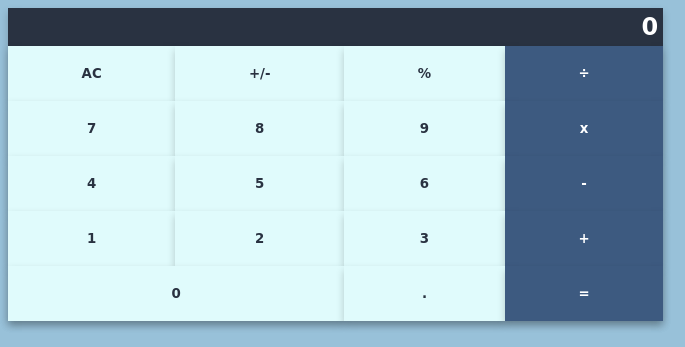
Test case: SolutionBox should have 10 ( 5 + 5 = 10)
Click the button "5" at (260, 184), box [175, 156, 344, 211]
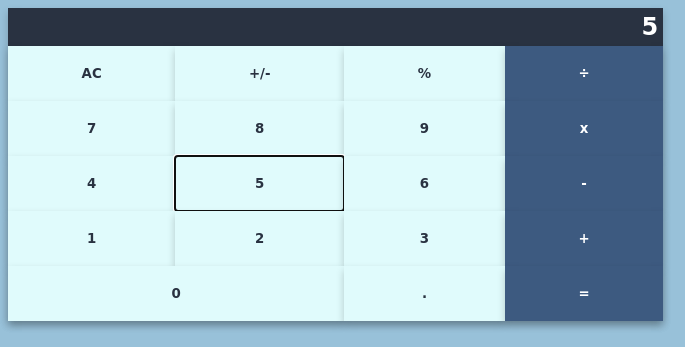
Click the button "+" at (584, 238), box [505, 211, 663, 266]
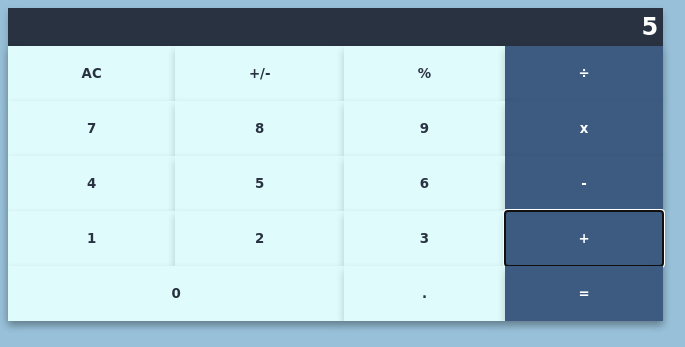
Click the button "5" at (260, 184), box [175, 156, 344, 211]
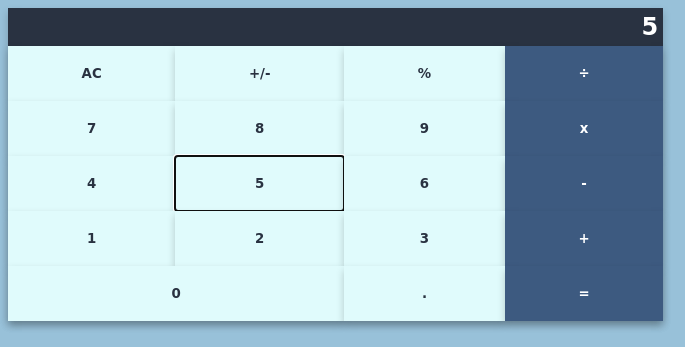
Click the button "=" at (584, 294), box [505, 266, 663, 321]
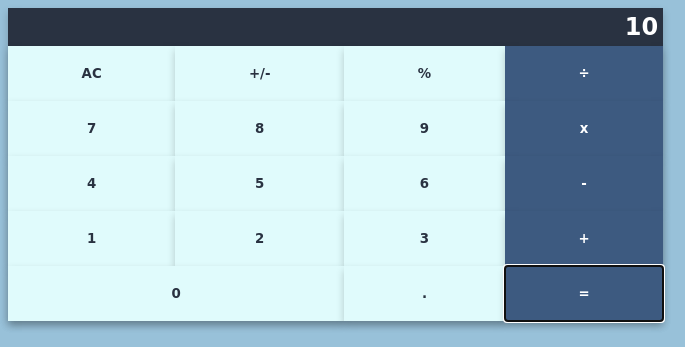
expect the text "10" is shown: met, box [8, 8, 663, 46]
